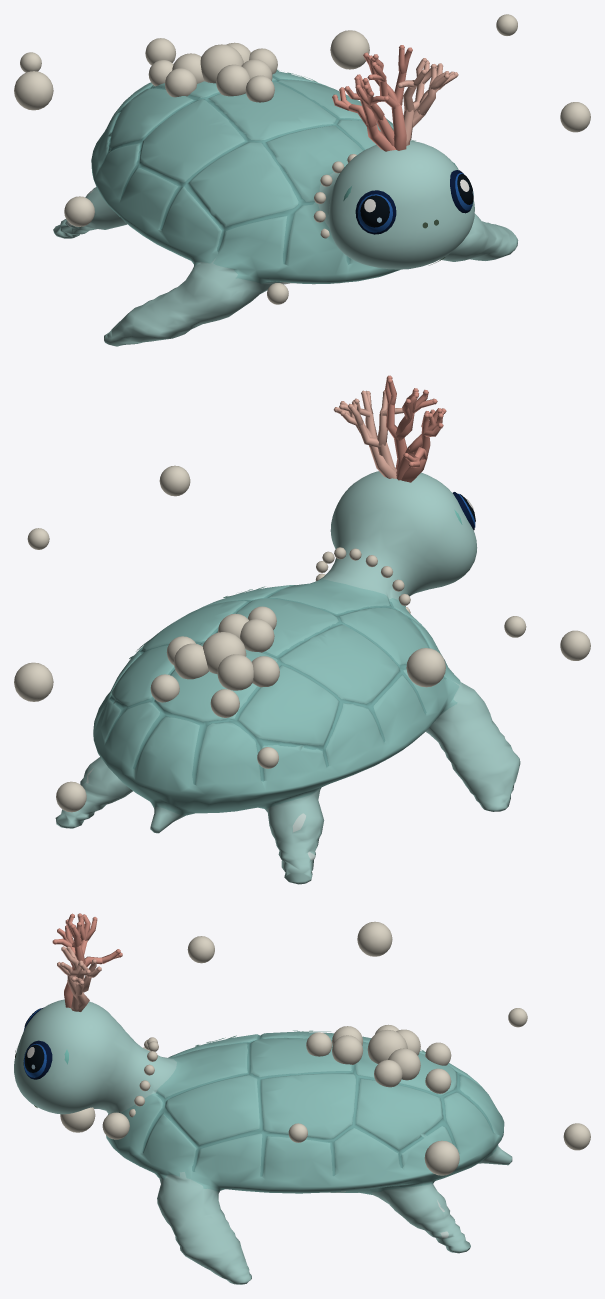
File: tidessa.glb
The picture shows the model from 3 angles, top to bottom: view 1: azimuth 30°, elevation 25°; view 2: azimuth 150°, elevation 25°; view 3: azimuth 270°, elevation 25°; orthographic projection. The views are drawn at different scales.
Visible parts, largest first — view 1: body, aura, eyes; view 2: body, aura; view 3: body, aura, eyes.
Boxes of the visible parts, bbox=[...] form: body: bbox=[53, 71, 518, 346]; aura: bbox=[14, 14, 590, 304]; eyes: bbox=[108, 69, 473, 265]; body: bbox=[55, 471, 520, 884]; aura: bbox=[14, 375, 590, 812]; body: bbox=[14, 999, 512, 1284]; aura: bbox=[52, 913, 590, 1175]; eyes: bbox=[15, 1007, 425, 1107].
Bounding box in the file's own units: 1.59 × 0.9537 × 1.77.
